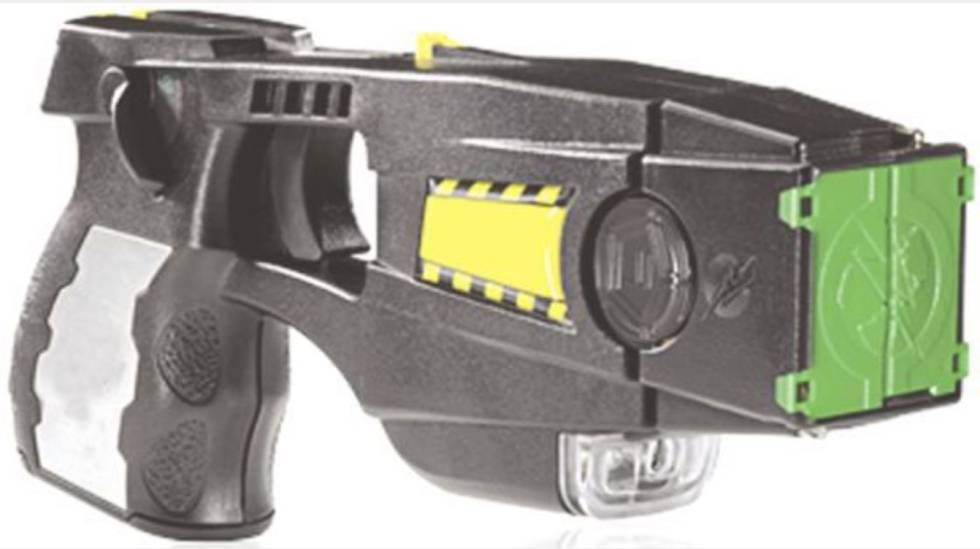Arma Falsa: (7, 5, 969, 549)
